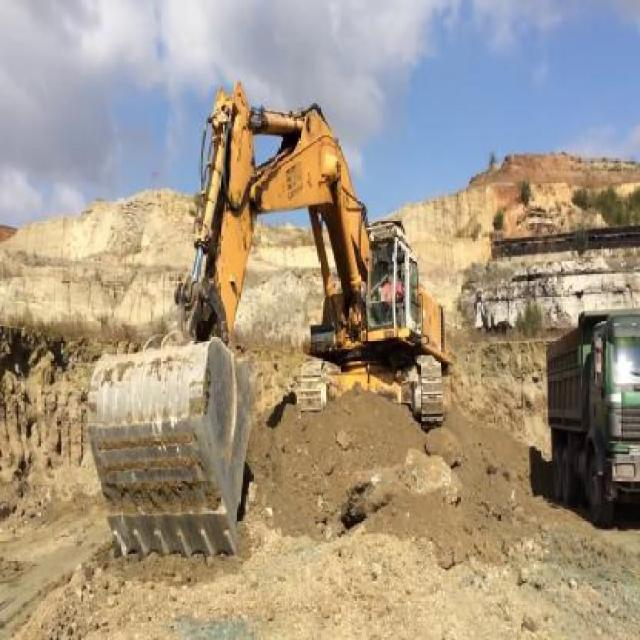Dump Truck: (544, 304, 639, 530)
Excavator: (82, 75, 453, 563)
